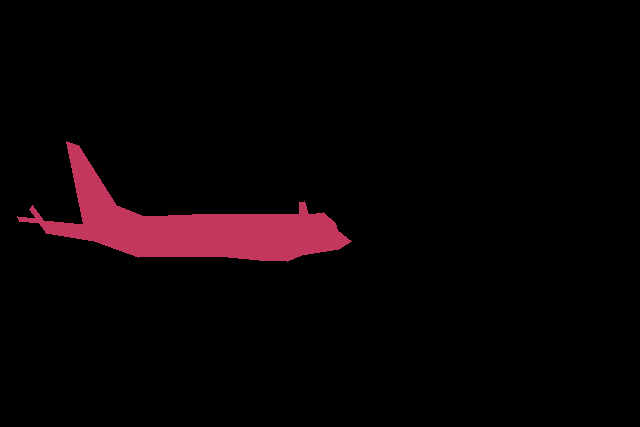Airplane: (17, 141, 351, 261)
